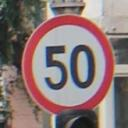speed_limit_50: (24, 15, 115, 115)
